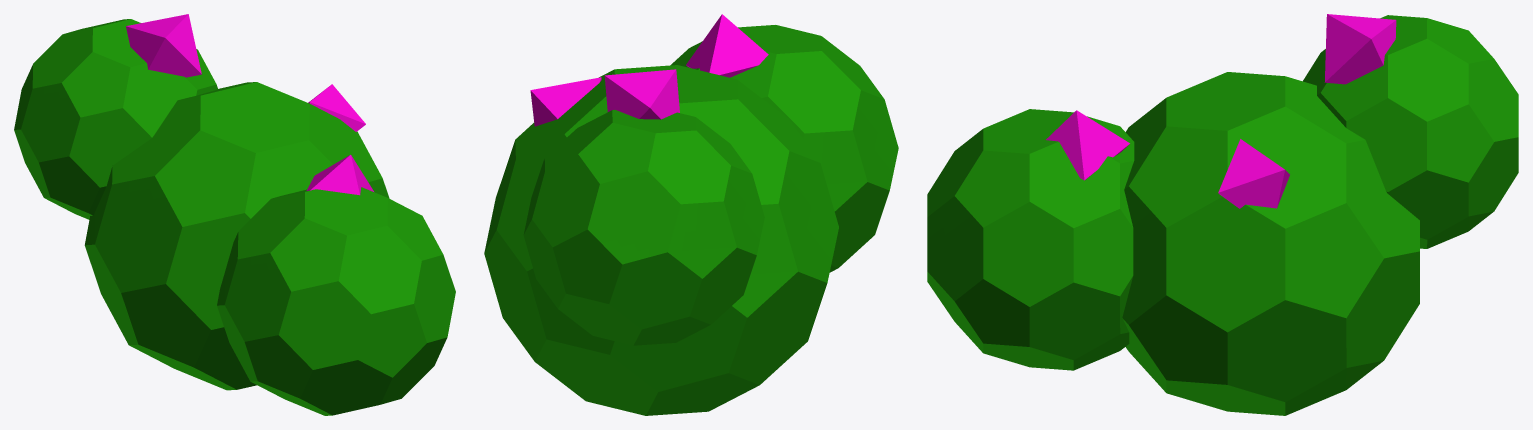
The model's file is bush.fbx.
3 views of the same model, side by side, from view 1: azimuth 30°, elevation 25°; view 2: azimuth 150°, elevation 25°; view 3: azimuth 270°, elevation 25° (orthographic). The views are drawn at different scales.
Parts seen in each view (by area): view 1: Platonic, Platonic_2, Platonic_1, Platonic_4, Platonic_5, Platonic_3; view 2: Platonic, Platonic_1, Platonic_2, Platonic_4, Platonic_5, Platonic_3; view 3: Platonic, Platonic_2, Platonic_1, Platonic_4, Platonic_3, Platonic_5.
Part boxes in pixels (x1,y1,x2,y2): Platonic: (84, 82, 389, 390); Platonic_2: (217, 187, 455, 415); Platonic_1: (14, 19, 217, 219); Platonic_4: (126, 14, 201, 77); Platonic_5: (306, 154, 373, 195); Platonic_3: (308, 84, 365, 131); Platonic: (484, 65, 838, 415); Platonic_1: (523, 110, 764, 345); Platonic_2: (670, 25, 898, 272); Platonic_4: (604, 69, 679, 119); Platonic_5: (686, 14, 768, 77); Platonic_3: (530, 77, 601, 126); Platonic: (1122, 72, 1419, 415); Platonic_2: (927, 109, 1134, 370); Platonic_1: (1303, 15, 1518, 248); Platonic_4: (1324, 14, 1396, 84); Platonic_3: (1218, 139, 1289, 208); Platonic_5: (1046, 110, 1129, 180).
Bounding box in the file's own units: 296 × 329 × 493.
